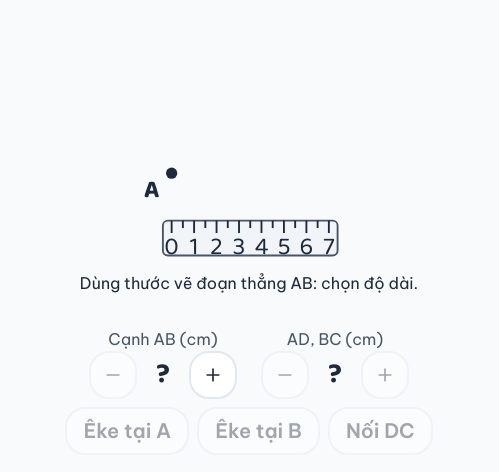
Test: Construct › says on a lesson screen that the two taken segments must equal the side
Step 1. Click the button named "Tăng cạnh ab (cm)" → (213, 375), box [189,351,237,399]
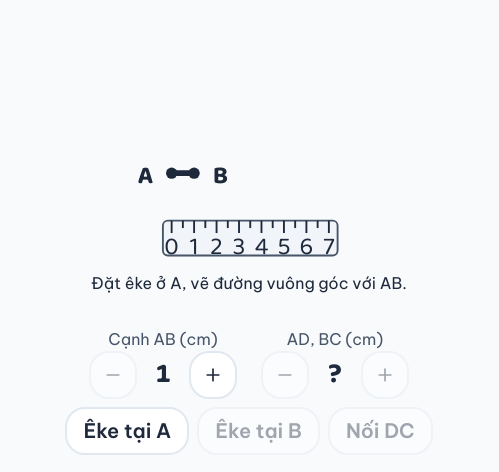
Step 2. Click the button named "Tăng cạnh ab (cm)" → (213, 375), box [189,351,237,399]
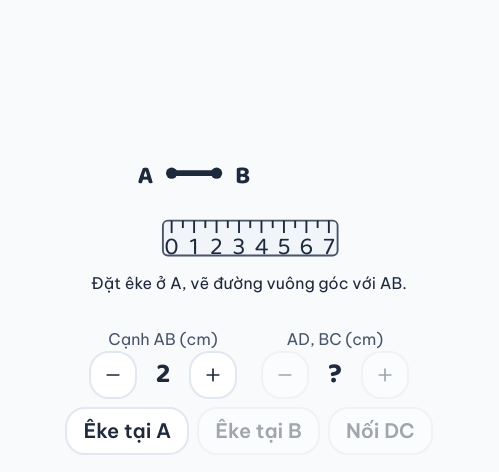
Step 3. Click the button named "Tăng cạnh ab (cm)" → (213, 375), box [189,351,237,399]
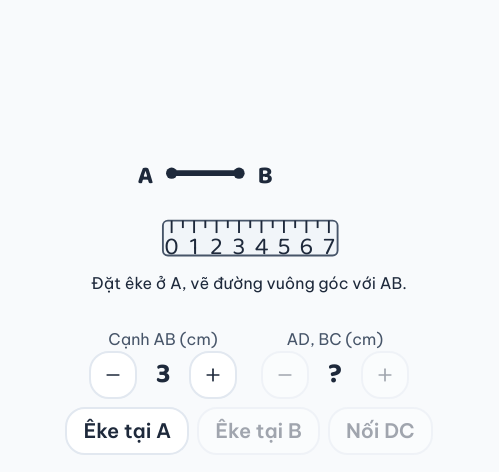
Step 4. Click the button "Êke tại A" → (127, 431), box [65,407,189,455]
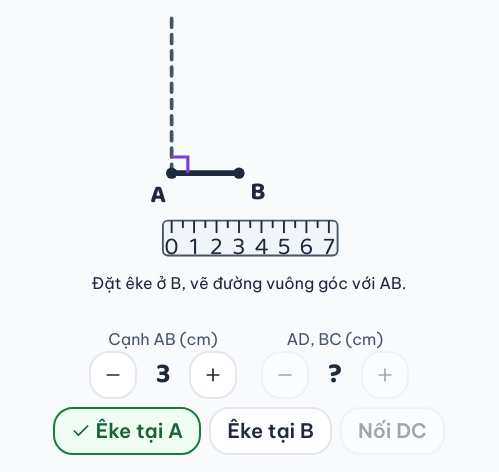
Step 5. Click the button "Êke tại B" → (271, 431), box [209,407,332,455]
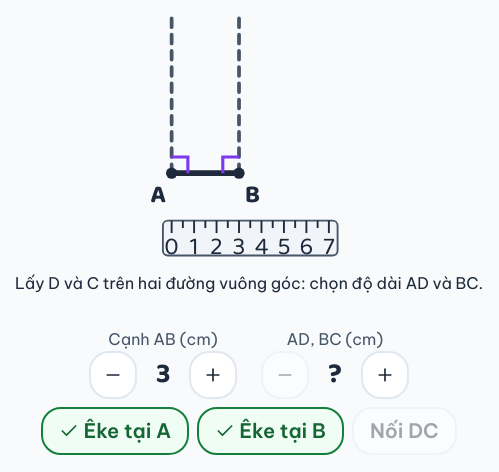
Step 6. Click the button named "Tăng ad, bc (cm)" → (385, 375), box [361,351,409,399]
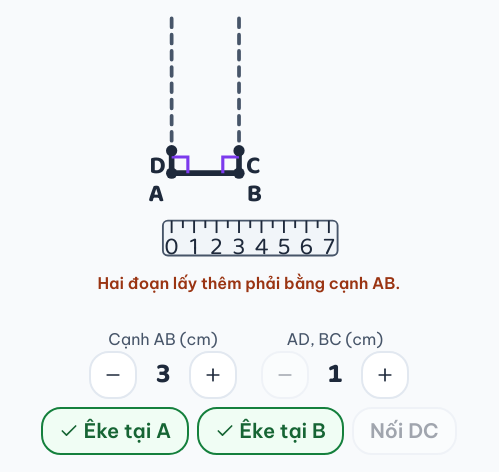
expect the button "Nối DC" is disabled: met, box [352,407,457,455]
expect the text "Hai đoạn lấy thêm phải bằng cạnh AB." is shown: met, box [98,273,400,293]
